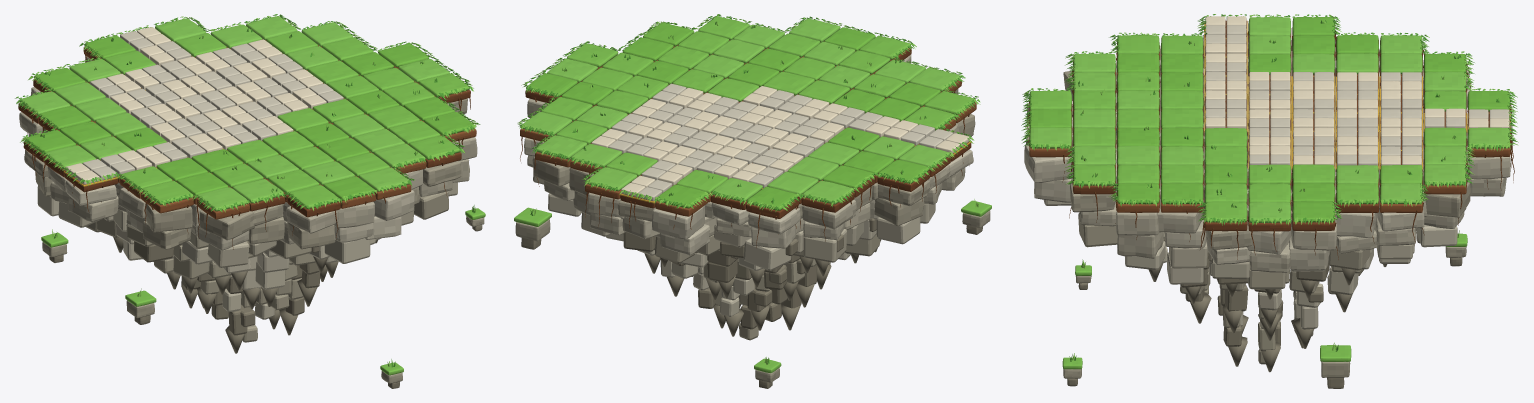
Rendered from ile-casino-cases.glb.
The picture shows the model from 3 angles, left to right: view 1: azimuth 30°, elevation 25°; view 2: azimuth 150°, elevation 25°; view 3: azimuth 270°, elevation 25°; orthographic projection. The views are drawn at different scales.
Parts seen in each view (by area): view 1: pierre.079, pierre.036, pierre.305, pierre.375, pierre.225, pierre.226, pierre.007, pierre.081, pierre.037, pierre.303, case_herbe.026, case_herbe.036 (+78 smaller); view 2: pierre.146, pierre.001, pierre.040, pierre.008, pierre.010, pierre.002, pierre.147, pierre.038, case_herbe.040, pierre, case_herbe.045, pierre.039 (+79 smaller); view 3: pierre.375, pierre.505, pierre.506, pierre.439, pierre.484, pierre.508, pierre.306, pierre.500, pierre.511, case_herbe.010, case_herbe.009, pierre.509 (+86 smaller).
Boxes of the visible parts, <box> form: pierre.079: <box>199,210,254,240</box>; pierre.036: <box>144,204,192,232</box>; pierre.305: <box>324,238,370,263</box>; pierre.375: <box>373,189,414,220</box>; pierre.225: <box>286,206,339,233</box>; pierre.226: <box>287,222,335,249</box>; pierre.007: <box>67,195,118,221</box>; pierre.081: <box>207,241,249,267</box>; pierre.037: <box>142,221,191,249</box>; pierre.303: <box>334,201,374,227</box>; case_herbe.026: <box>262,131,313,155</box>; case_herbe.036: <box>358,167,409,191</box>; pierre.146: <box>652,205,704,239</box>; pierre.001: <box>874,198,924,226</box>; pierre.040: <box>743,237,791,270</box>; pierre.008: <box>802,199,856,229</box>; pierre.010: <box>803,228,846,262</box>; pierre.002: <box>876,217,920,244</box>; pierre.147: <box>660,224,709,255</box>; pierre.038: <box>748,207,800,234</box>; case_herbe.040: <box>713,39,764,63</box>; pierre: <box>878,180,930,205</box>; case_herbe.045: <box>596,90,648,114</box>; pierre.039: <box>750,224,795,248</box>; pierre.375: <box>1024,144,1072,182</box>; pierre.505: <box>1116,199,1160,235</box>; pierre.506: <box>1117,232,1163,258</box>; pierre.439: <box>1425,182,1470,217</box>; pierre.484: <box>1335,198,1377,237</box>; pierre.508: <box>1291,214,1337,250</box>; pierre.306: <box>1467,143,1510,179</box>; pierre.500: <box>1157,204,1202,233</box>; pierre.511: <box>1249,243,1290,272</box>; case_herbe.010: <box>1336,53,1378,74</box>; case_herbe.009: <box>1380,53,1422,74</box>; pierre.509: <box>1289,236,1329,270</box>.
Size of the model in its own units: 22.79 by 12.57 by 22.77.
